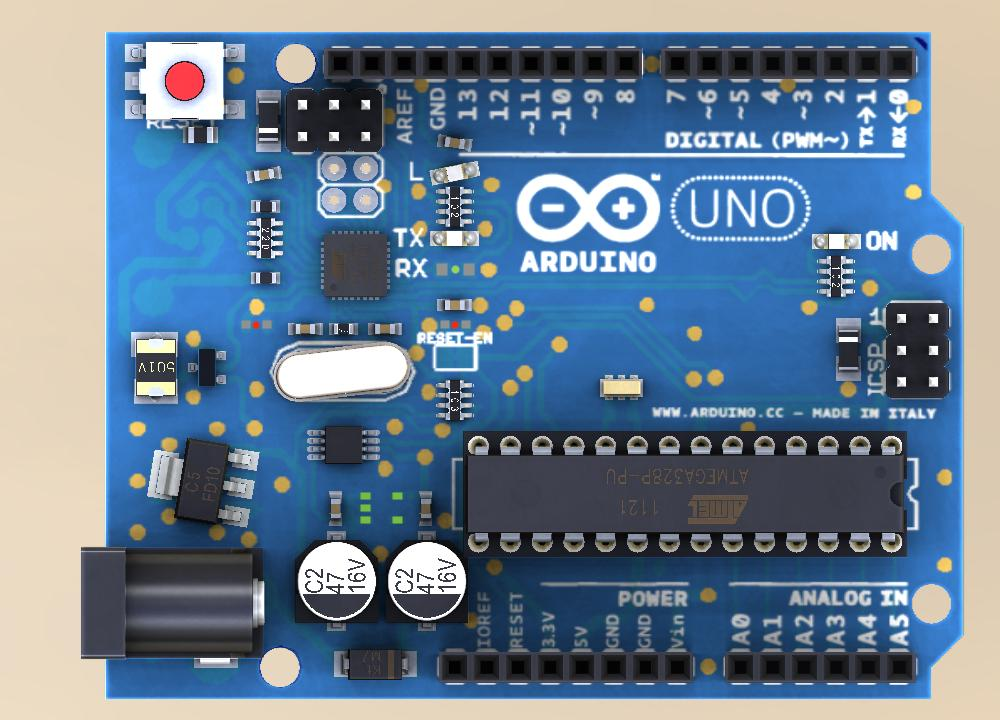16MHz Crystal: (595, 371, 647, 403)
47uF CAP: (295, 531, 382, 634), (384, 531, 468, 633)
ATMEL328P: (464, 429, 908, 556)
ATMega16u2: (318, 228, 393, 302)
CD1206: (834, 316, 864, 381), (254, 89, 282, 154)
Capa: (434, 132, 476, 152), (245, 165, 284, 186), (437, 296, 472, 314), (327, 489, 343, 527), (367, 321, 403, 337), (286, 322, 324, 337), (419, 490, 435, 525)
Crystal: (272, 341, 416, 404)
Fuse: (130, 331, 180, 406)
LED: (430, 160, 480, 186), (809, 231, 863, 252), (430, 228, 479, 250)
M7 diode: (329, 646, 420, 684)
PIN Header: (285, 88, 384, 155), (886, 301, 951, 400)
Ports: (322, 43, 645, 84), (436, 647, 696, 689), (661, 46, 921, 85), (722, 647, 918, 686)
Power: (75, 547, 267, 670)
Regulator: (120, 419, 268, 546)
Reset: (121, 38, 246, 123)
Resistor: (182, 123, 219, 149), (248, 197, 280, 214), (328, 321, 360, 338), (250, 271, 280, 287)
Resistor pack: (815, 253, 856, 300), (246, 217, 284, 262), (437, 378, 475, 423), (436, 185, 474, 229)
SSOT3: (186, 345, 228, 391)
lp2985: (305, 423, 381, 466)
